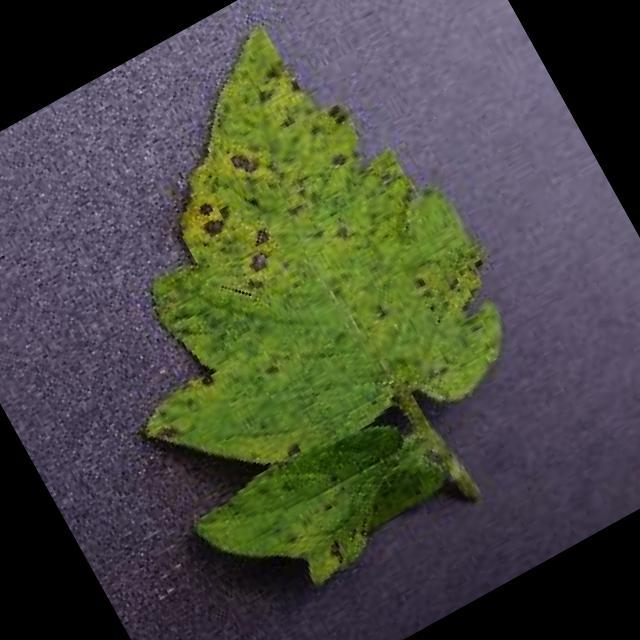Tomato Septoria spot leaf: (0, 0, 582, 628)
